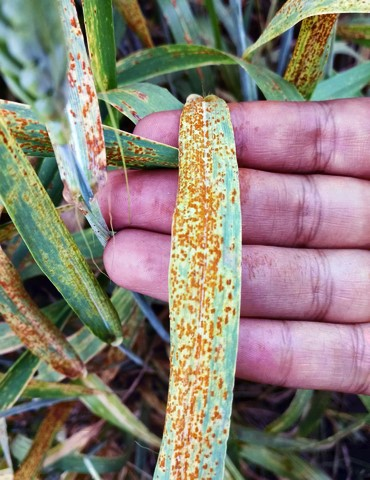Leaf Rust: (155, 98, 244, 467)
